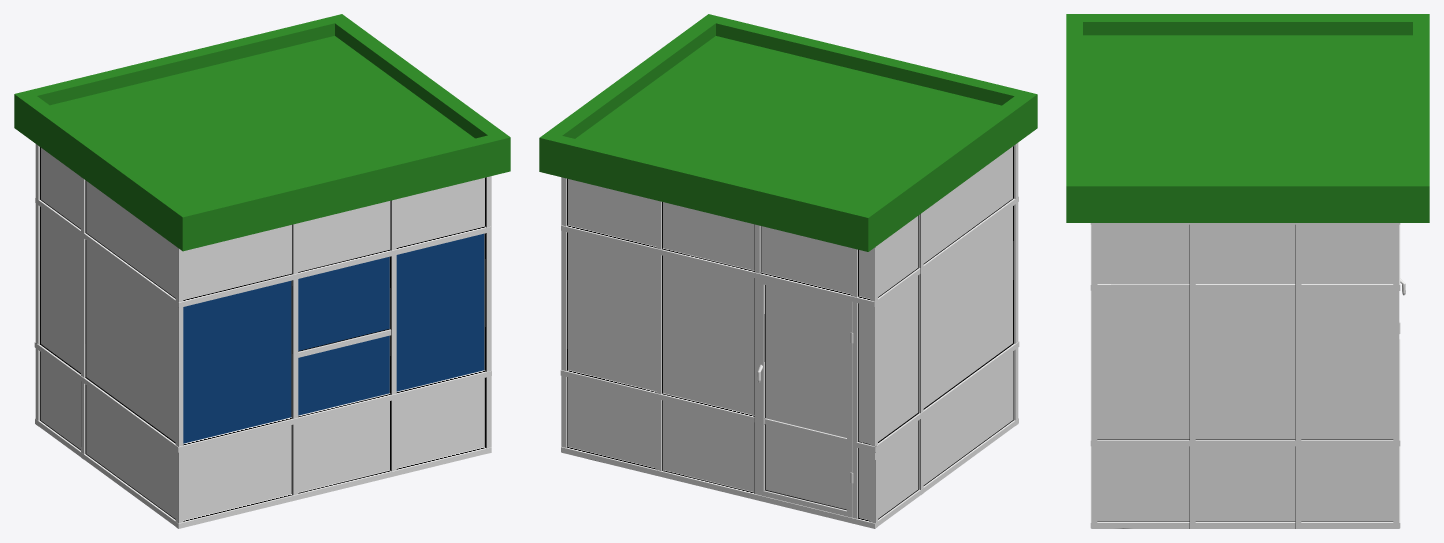
File: BuildingKPP2.FBX
3 renders of one model, left to right at view 1: azimuth 30°, elevation 25°; view 2: azimuth 150°, elevation 25°; view 3: azimuth 270°, elevation 25°, orthographic. The views are drawn at different scales.
Parts seen in each view (by area): view 1: Budka1, Budka1Glass; view 2: Budka1, Door; view 3: Budka1.
Boxes of the visible parts, x1,y1,x2,y2 form: Budka1: [14, 14, 510, 528]; Budka1Glass: [183, 233, 484, 443]; Budka1: [539, 14, 1037, 528]; Door: [757, 279, 853, 517]; Budka1: [1066, 14, 1429, 528].
Size of the model in its own units: 132 by 124 by 118.
